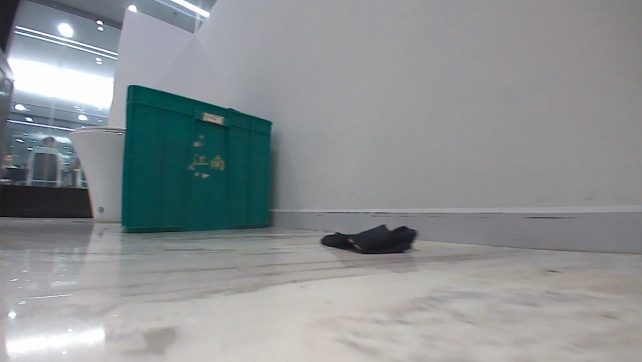socks: (319, 220, 417, 256)
toilet: (66, 123, 125, 224)
